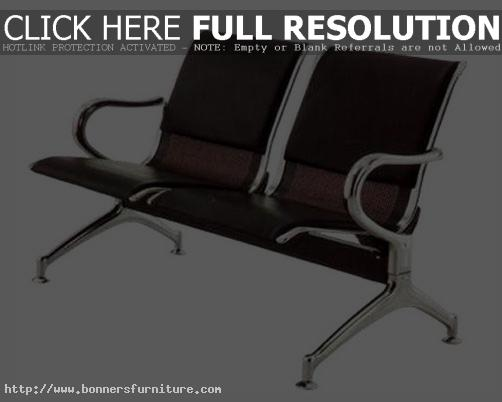chairs: (30, 30, 466, 391)
